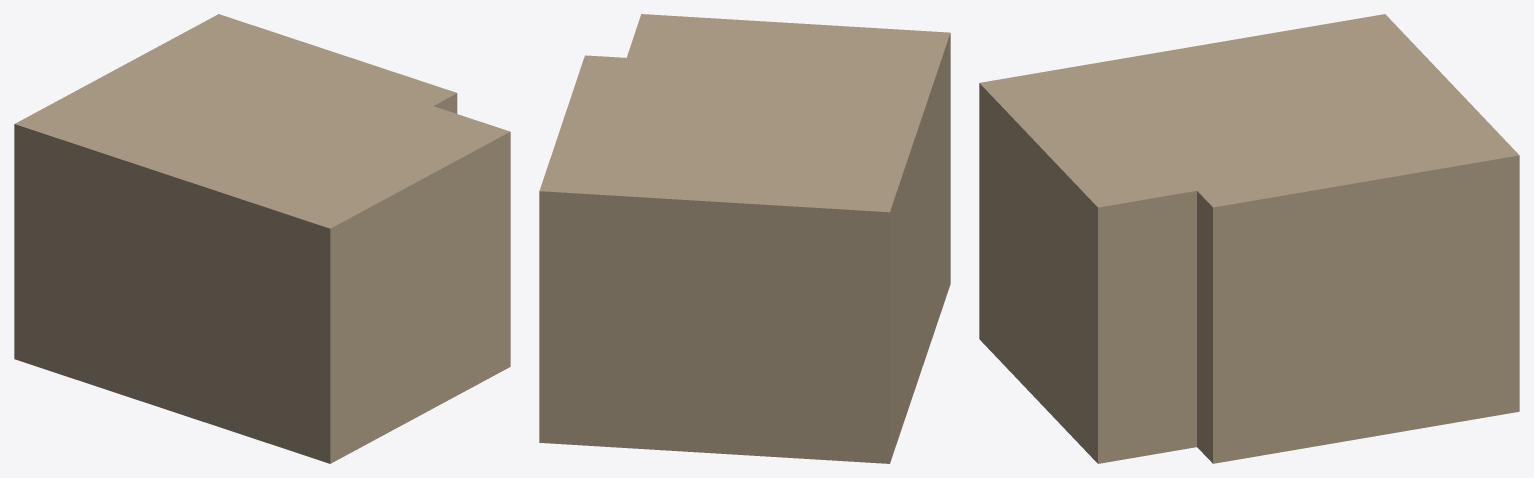
File: bld_106415115.dae
3 renders of one model, left to right at view 1: azimuth 30°, elevation 25°; view 2: azimuth 150°, elevation 25°; view 3: azimuth 270°, elevation 25°, orthographic. The views are drawn at different scales.
Visible parts, largest first — view 1: bld_106415115; view 2: bld_106415115; view 3: bld_106415115.
Boxes of the visible parts, x1,y1,x2,y2 form: bld_106415115: (14, 14, 510, 463); bld_106415115: (539, 14, 950, 463); bld_106415115: (979, 14, 1519, 463).
Bounding box in the file's own units: 12.96 × 15.28 × 8.
